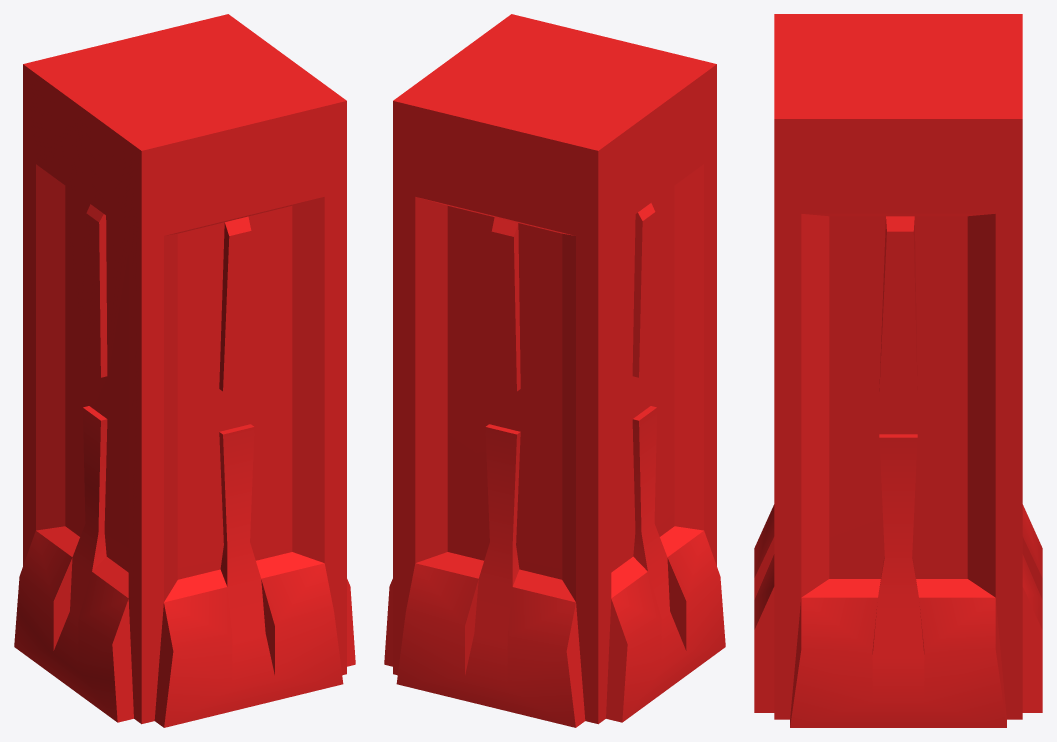
Rendered from SM_WallPillar.FBX.
3 renders of one model, left to right at view 1: azimuth 30°, elevation 25°; view 2: azimuth 150°, elevation 25°; view 3: azimuth 270°, elevation 25°, orthographic. The views are drawn at different scales.
Parts seen in each view (by area): view 1: WallPillar; view 2: WallPillar; view 3: WallPillar.
Part boxes in pixels (box(x1,y1,x2,y2)): WallPillar: box(14, 14, 355, 727); WallPillar: box(384, 14, 725, 727); WallPillar: box(754, 14, 1042, 727).
Bounding box in the file's own units: 54.76 × 126 × 54.76.
